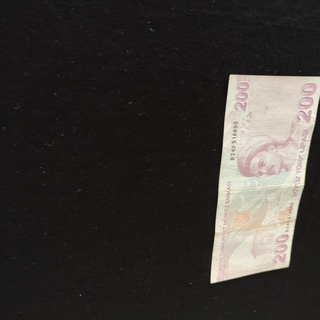200TLBack: (209, 73, 320, 284)
